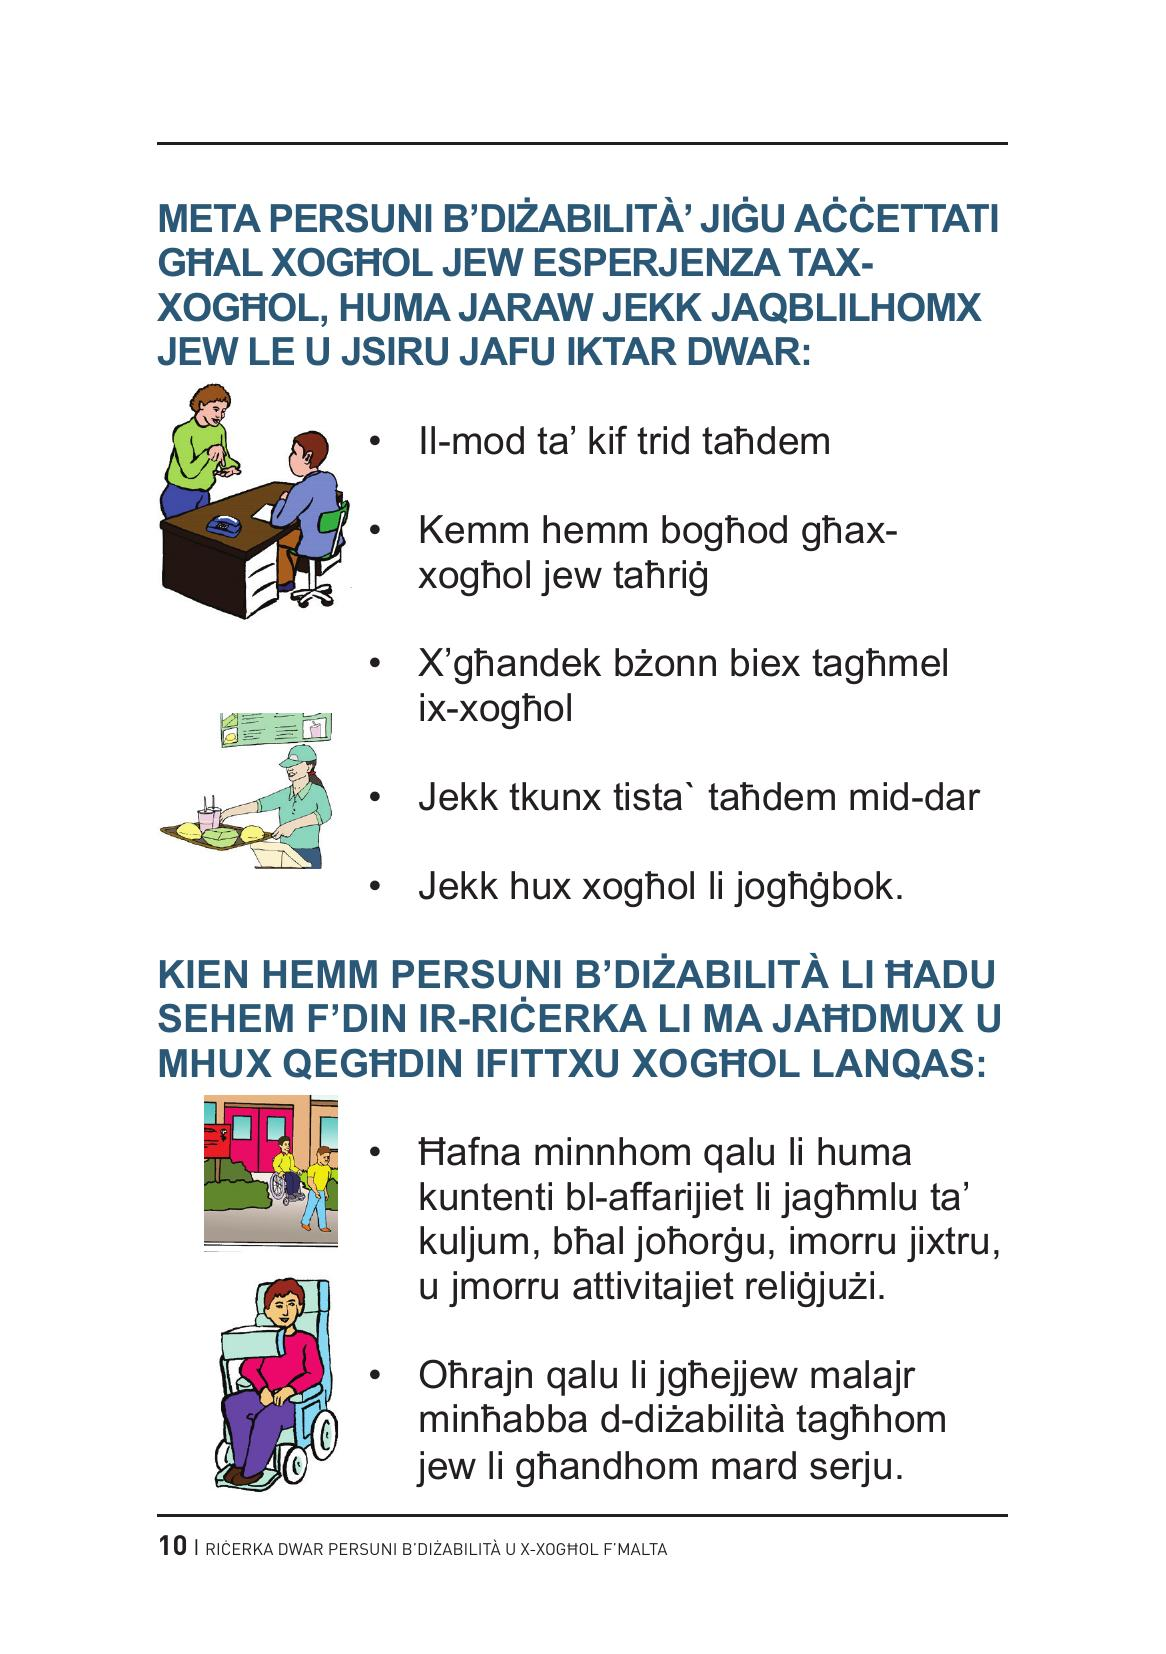text: (357, 408, 1003, 918), (355, 1118, 1012, 1500), (138, 187, 1004, 382), (143, 944, 1042, 1094)
